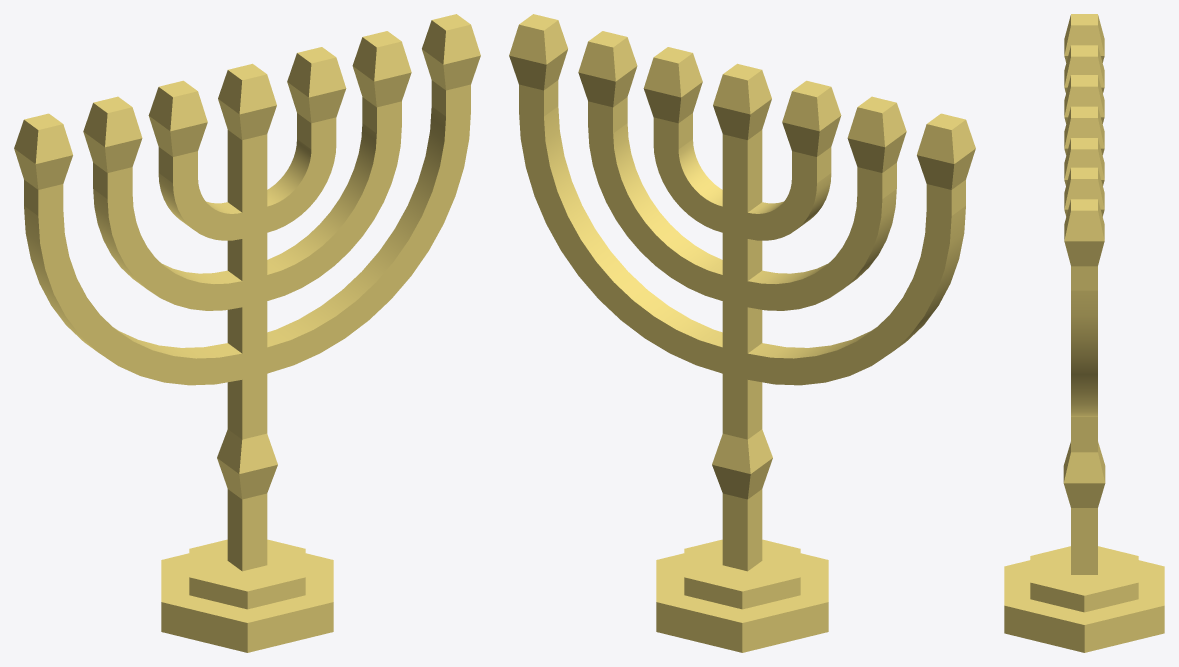
The model's file is hanukkahMenorah.fbx.
3 renders of one model, left to right at view 1: azimuth 30°, elevation 25°; view 2: azimuth 150°, elevation 25°; view 3: azimuth 270°, elevation 25°, orthographic. The views are drawn at different scales.
Parts seen in each view (by area): view 1: hanukkahMenorah; view 2: hanukkahMenorah; view 3: hanukkahMenorah.
Boxes of the visible parts, box(x1,y1,x2,y2) form: hanukkahMenorah: box(14, 14, 480, 652); hanukkahMenorah: box(509, 14, 975, 652); hanukkahMenorah: box(1004, 14, 1164, 652).
Size of the model in its own units: 3.89 by 4.5 by 1.3.
